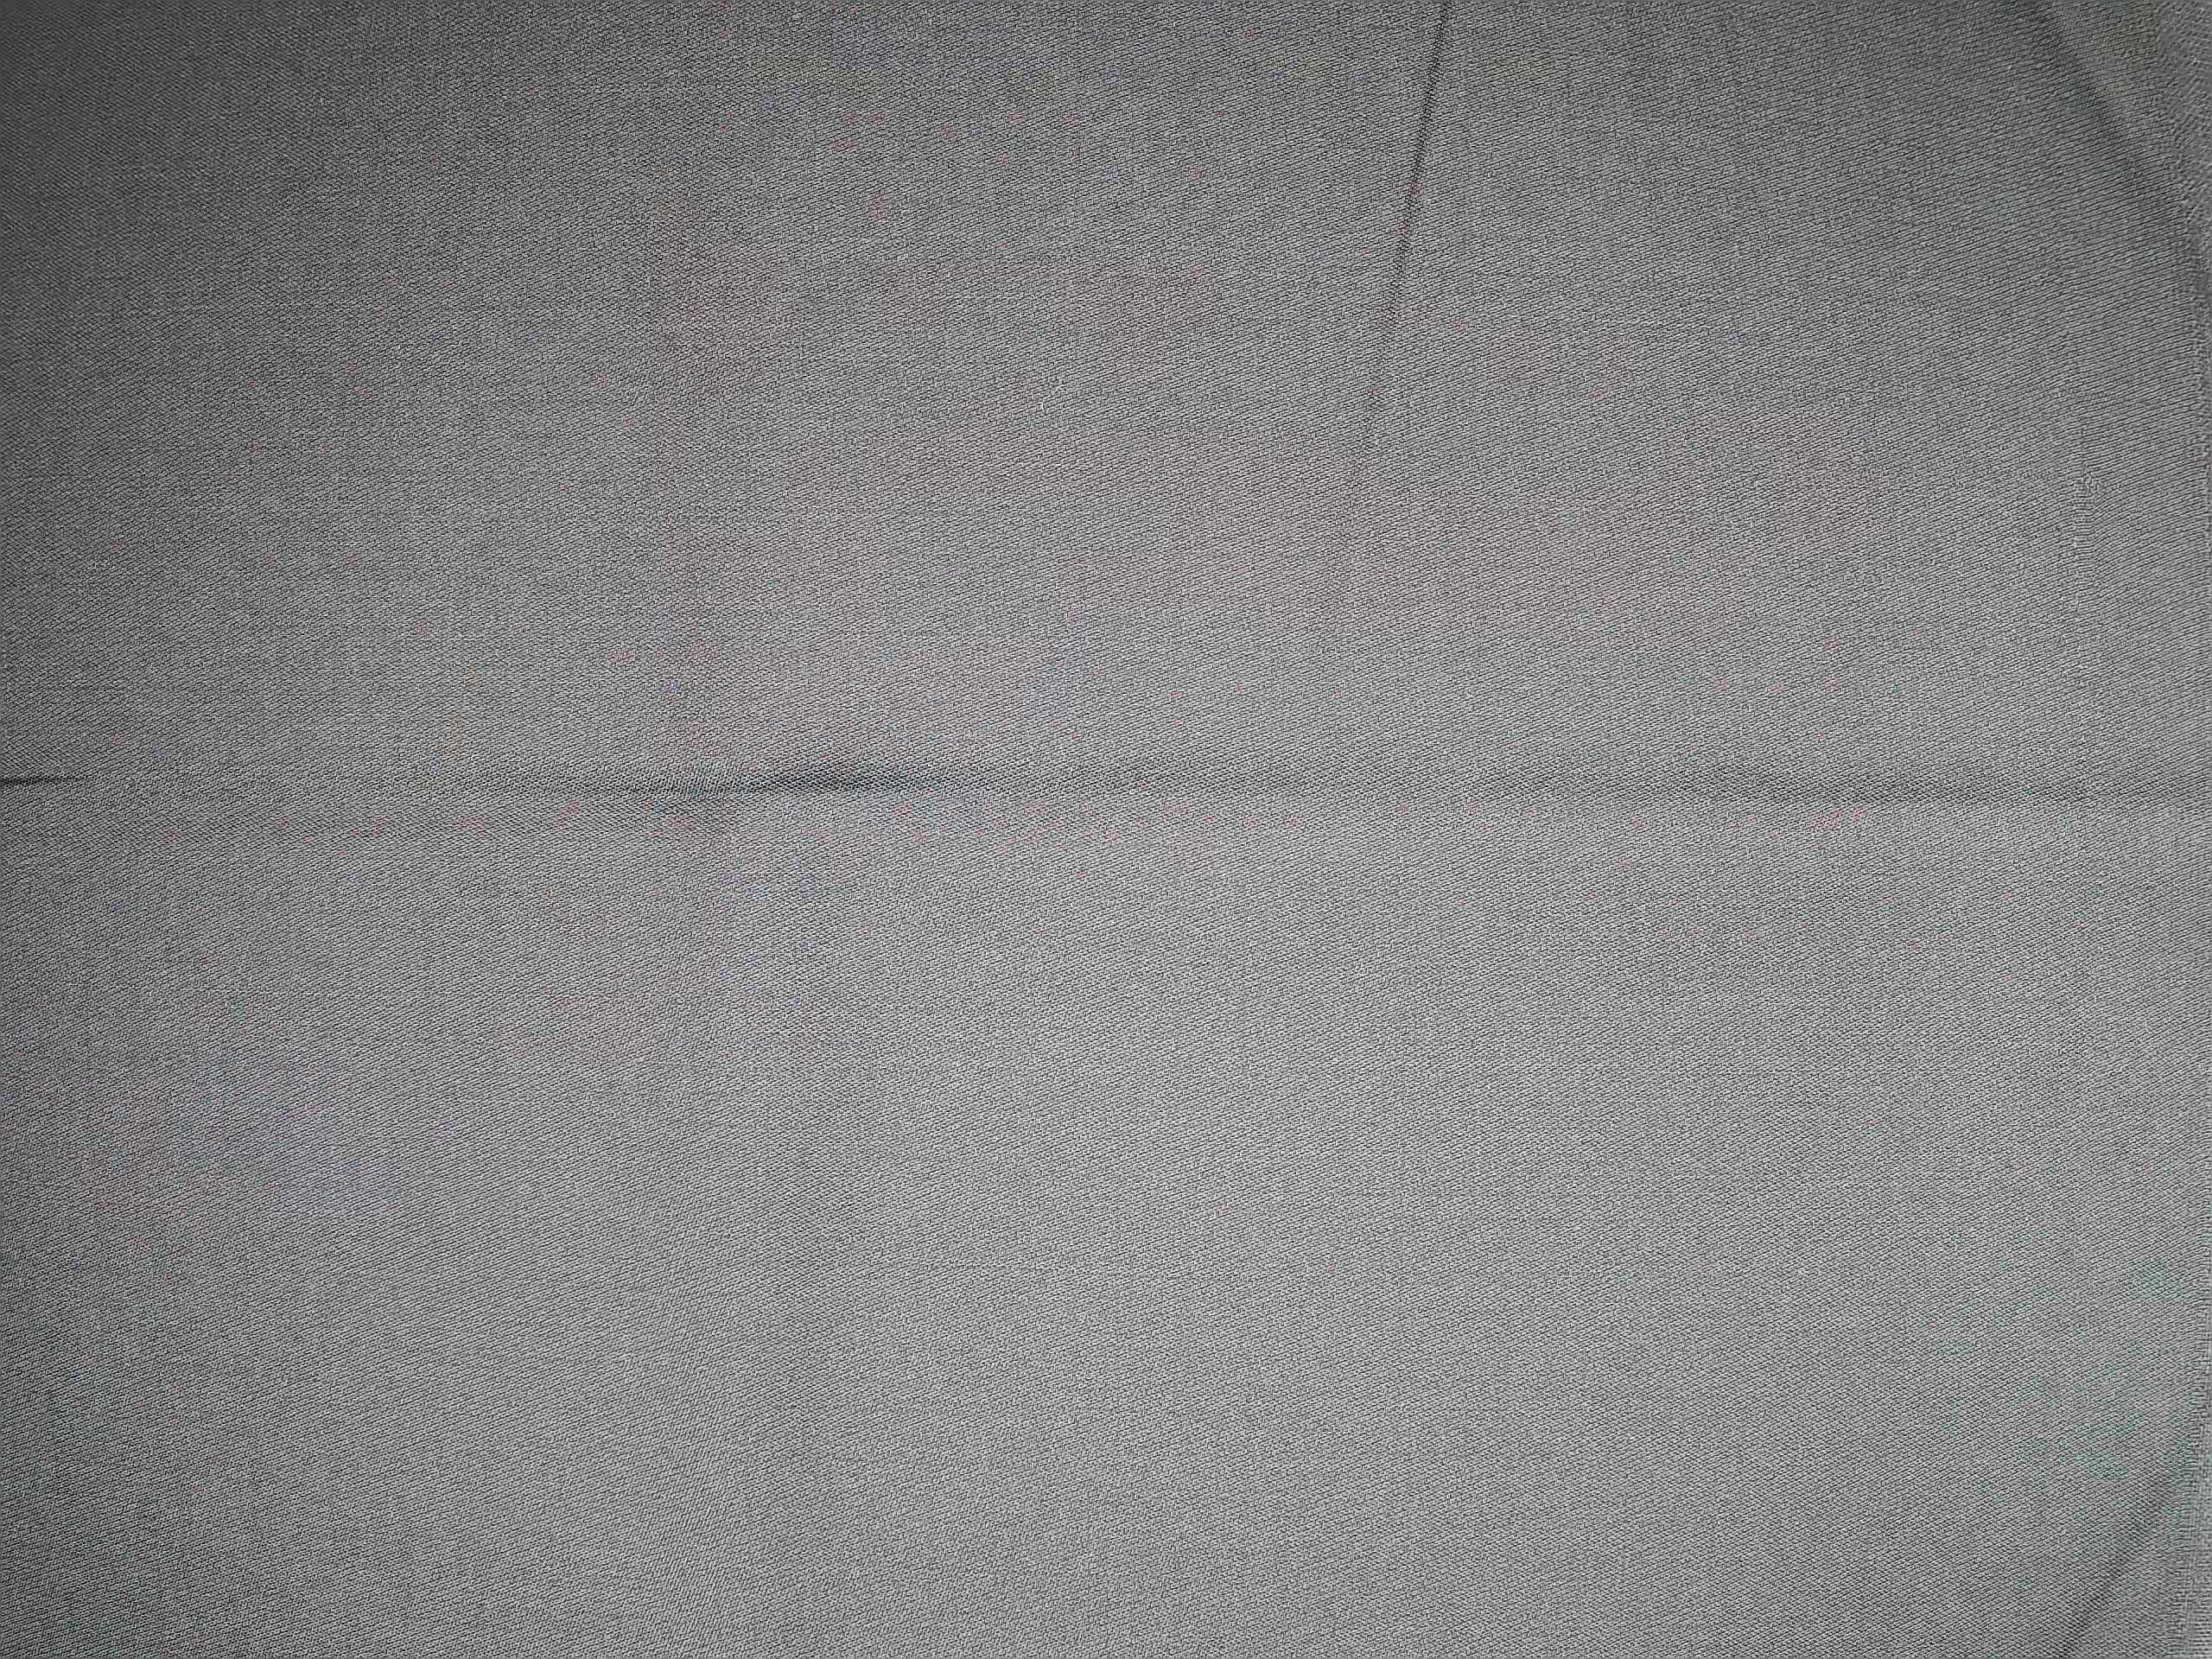hanging-warp: (2034, 347, 2134, 925)
